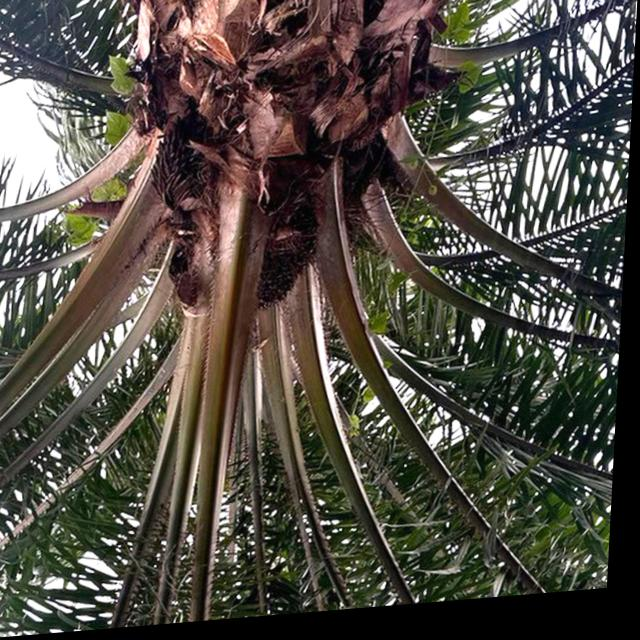ripe: (163, 190, 332, 332)
